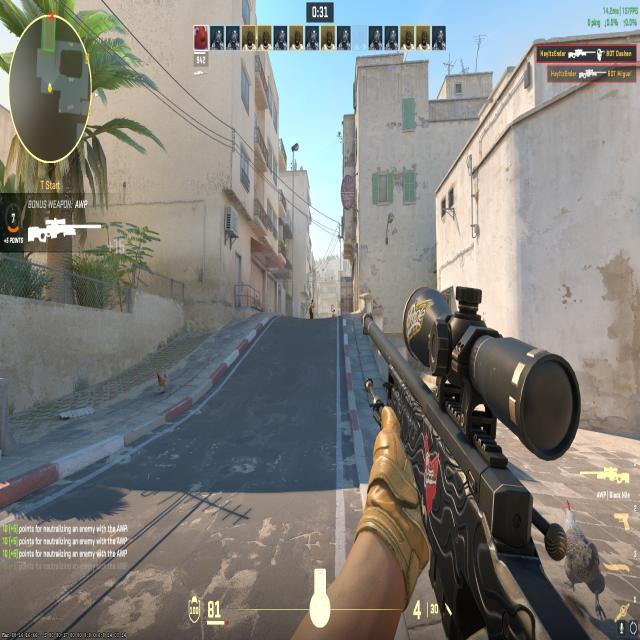t: (307, 298, 315, 322), (329, 306, 337, 319)
